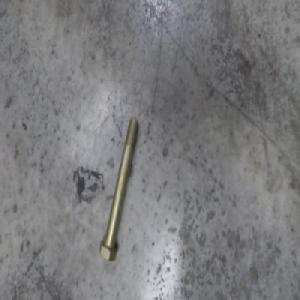Bolt: (97, 107, 139, 247)
